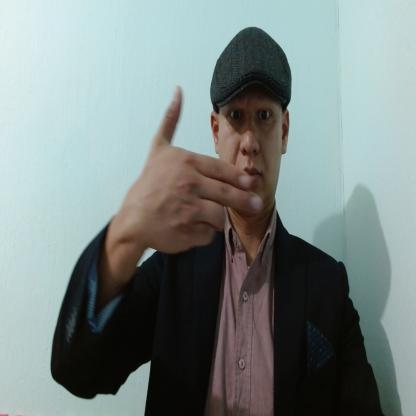H: (132, 84, 264, 254)
